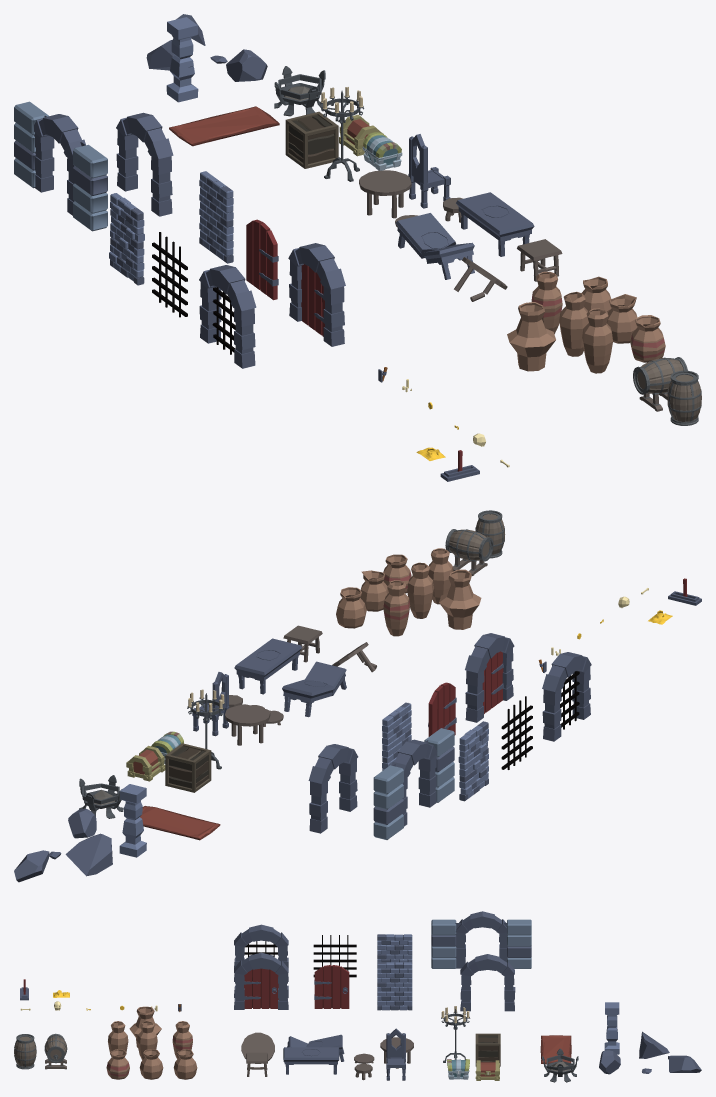
The model's file is Decor (2).fbx.
3 views of the same model, one above another, from view 1: azimuth 30°, elevation 25°; view 2: azimuth 150°, elevation 25°; view 3: azimuth 270°, elevation 25° (orthographic). The views are drawn at different scales.
Parts seen in each view (by area): view 1: door arc.003, door arc.002, door arc.001, door arc, brick wall.001, brick wall, Cube.006, Cube, model_3.003, Vaza2, door.001, pillar (+20 smaller); view 2: door arc.003, door arc.002, door arc.001, door arc, brick wall.001, Cube.006, Cube, Vaza2, Barrel.001, model_3.003, pillar, brick wall (+22 smaller); view 3: door arc.003, brick wall, door arc.002, door arc, door.001, door.013, door arc.001, Cube, brick wall.001, Cube.006, Stone_chair, model_3.003 (+22 smaller).
Boxes of the visible parts, x1,y1,x2,y2 form: door arc.003: (14, 101, 107, 231); door arc.002: (116, 112, 173, 216); door arc.001: (199, 265, 256, 368); door arc: (288, 243, 345, 346); brick wall.001: (109, 193, 144, 285); brick wall: (199, 171, 233, 263); Cube.006: (285, 111, 338, 168); Cube: (456, 192, 534, 256); model_3.003: (169, 106, 279, 146); Vaza2: (507, 302, 555, 371); door.001: (246, 219, 278, 300); pillar: (166, 17, 198, 102); door arc.003: (373, 728, 454, 839); door arc.002: (308, 744, 358, 833); door arc.001: (542, 652, 591, 741); door arc: (465, 633, 514, 722); brick wall.001: (458, 721, 488, 801); Cube.006: (165, 743, 211, 792); Cube: (234, 638, 302, 694); Vaza2: (439, 569, 481, 629); Barrel.001: (445, 529, 493, 575); model_3.003: (140, 806, 220, 840); pillar: (119, 784, 146, 857); brick wall: (382, 702, 411, 770); door arc.003: (431, 911, 531, 968); brick wall: (377, 962, 412, 1010); door arc.002: (460, 954, 515, 1011); door arc: (234, 952, 288, 1009); door.001: (314, 965, 349, 1008); door.013: (244, 968, 278, 1008); door arc.001: (234, 924, 288, 981); Cube: (283, 1047, 339, 1074); brick wall.001: (377, 934, 412, 962); Cube.006: (475, 1033, 500, 1066); Stone_chair: (386, 1028, 405, 1080); model_3.003: (540, 1035, 571, 1064).
Bounding box in the file's own units: 1513 × 475 × 4154.
35 materials, 1 textured.
